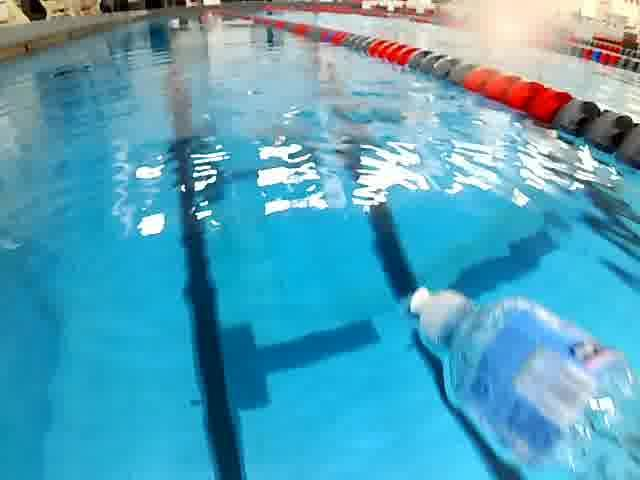Bottle: (394, 273, 640, 480)
